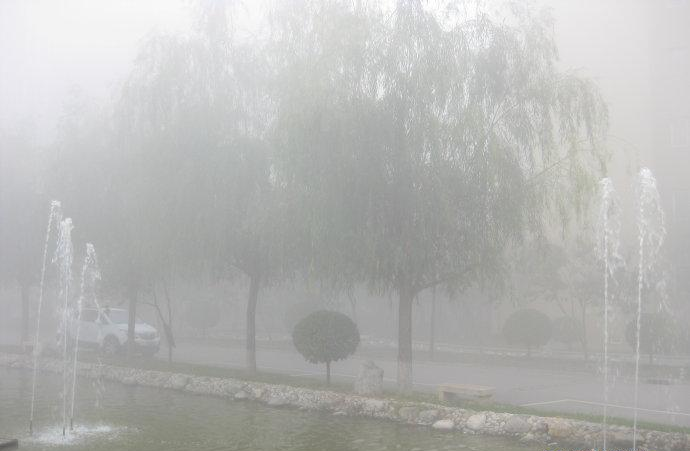car: (55, 305, 161, 361)
